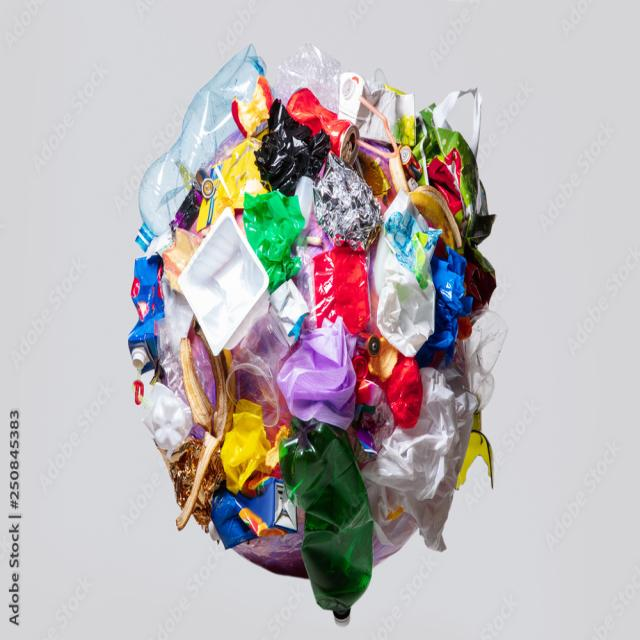metal: (290, 88, 360, 162)
plastic: (117, 52, 250, 226), (282, 447, 379, 626), (282, 332, 421, 449), (160, 224, 266, 348), (131, 323, 188, 428)
